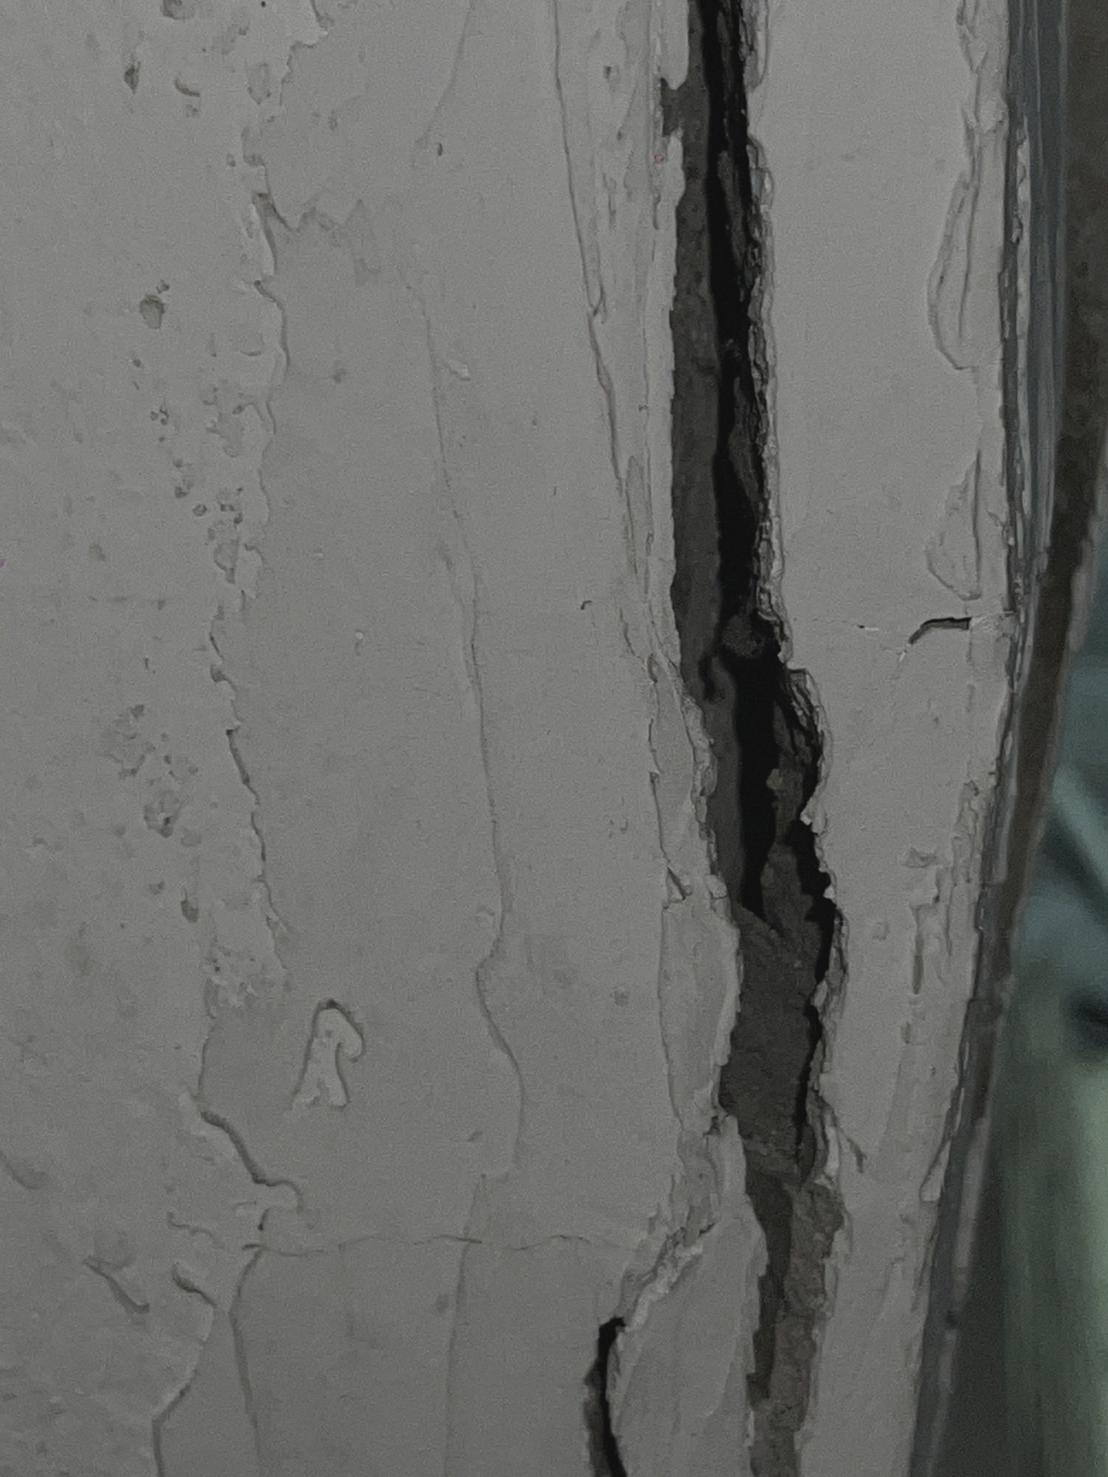High: (509, 5, 880, 1472)
